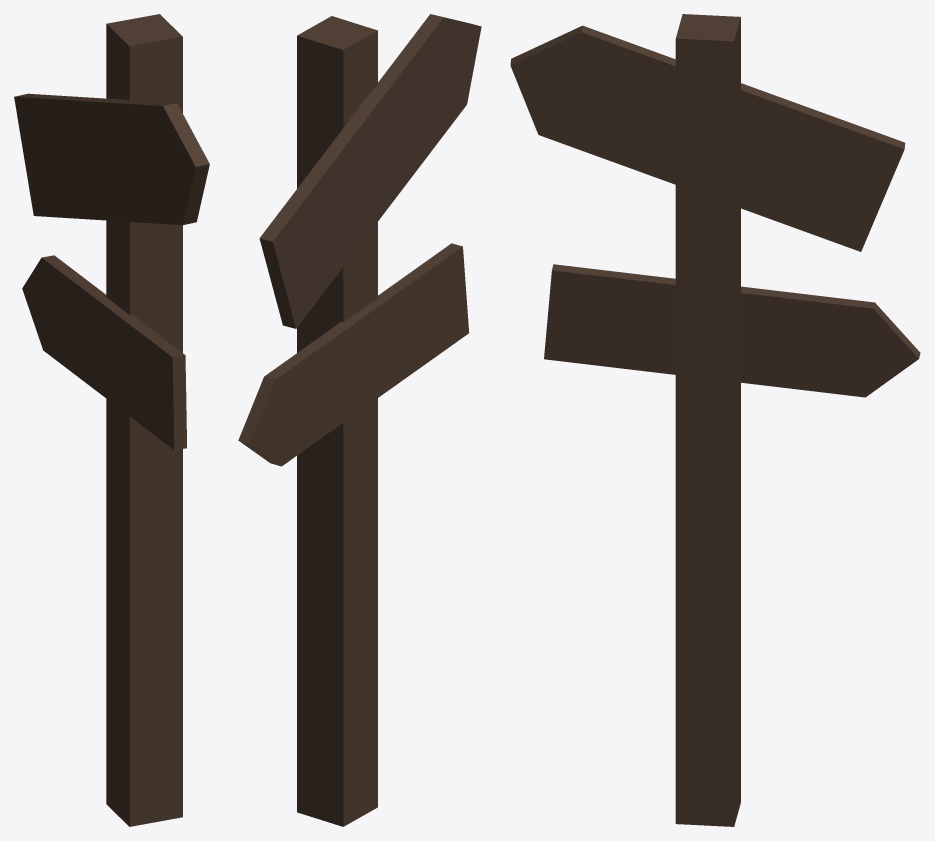
The model's file is Znak 2.fbx.
The picture shows the model from 3 angles, left to right: view 1: azimuth 30°, elevation 25°; view 2: azimuth 150°, elevation 25°; view 3: azimuth 270°, elevation 25°; orthographic projection.
Parts seen in each view (by area): view 1: Znak 6; view 2: Znak 6; view 3: Znak 6.
Boxes of the visible parts, x1=… form: Znak 6: x1=14, y1=14, x2=209, y2=826; Znak 6: x1=238, y1=14, x2=481, y2=826; Znak 6: x1=510, y1=14, x2=920, y2=826.
Bounding box in the file's own units: 60.83 × 573 × 271.
